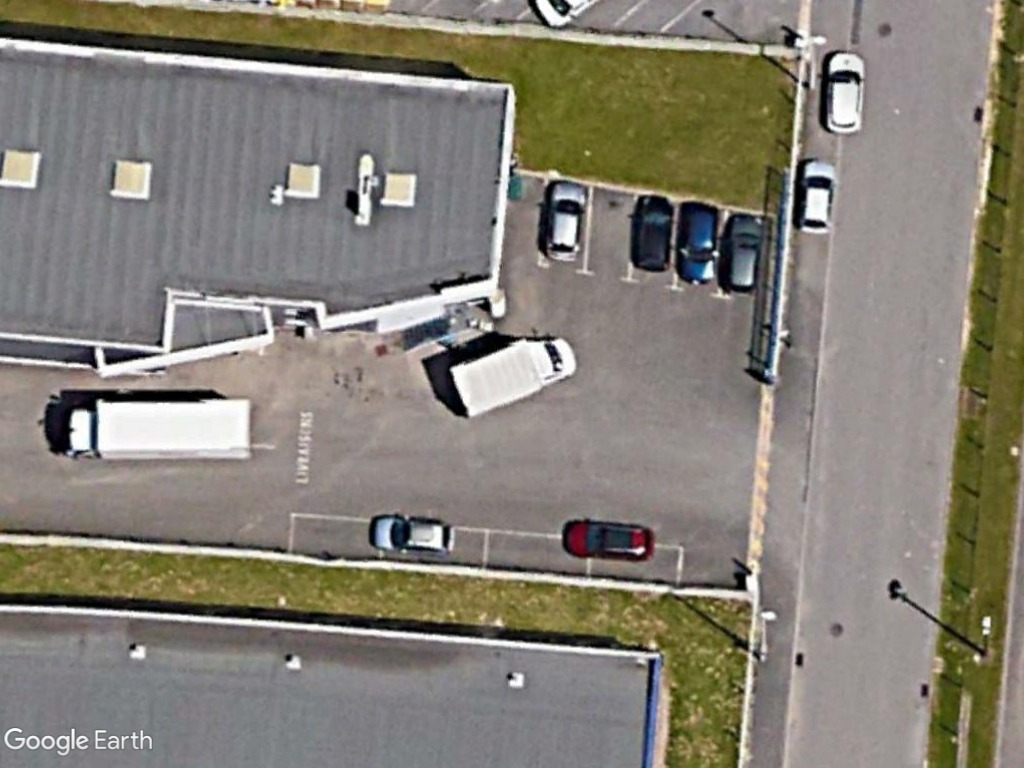car: (559, 517, 656, 564), (542, 178, 590, 263), (821, 49, 866, 136), (720, 211, 765, 298), (368, 513, 457, 556), (794, 155, 840, 237), (677, 201, 717, 289)
truck: (65, 393, 259, 465), (446, 330, 581, 422)
